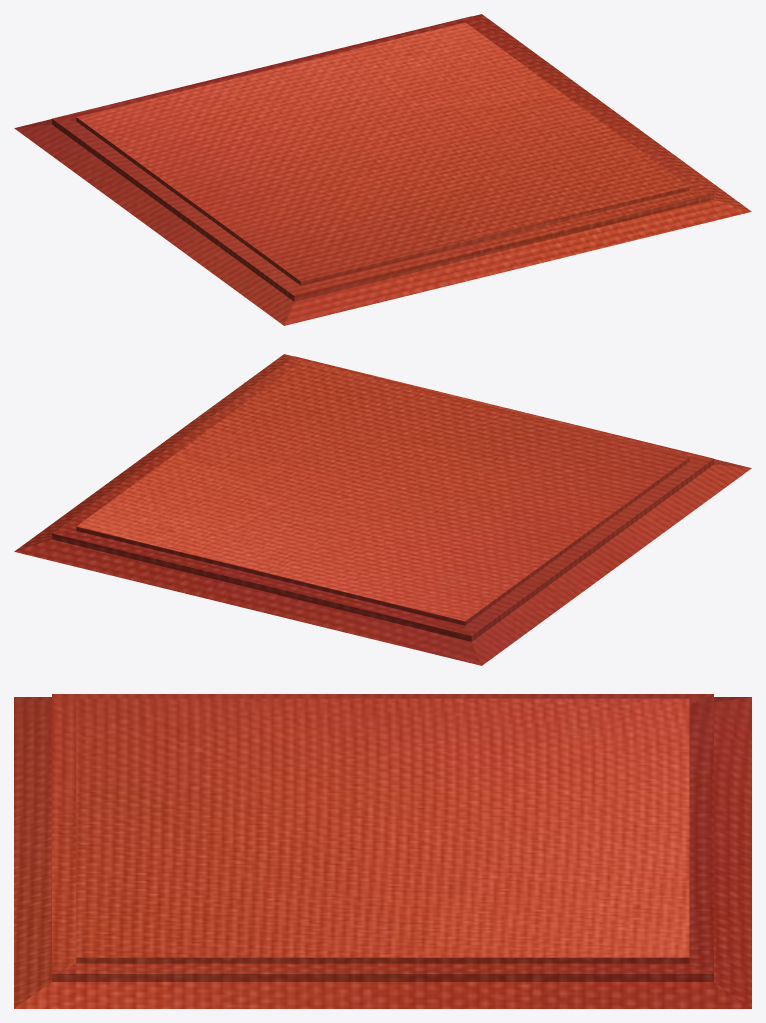
The model's file is pressureplate_oneshot.glb.
The picture shows the model from 3 angles, top to bottom: view 1: azimuth 30°, elevation 25°; view 2: azimuth 150°, elevation 25°; view 3: azimuth 270°, elevation 25°; orthographic projection. The views are drawn at different scales.
Visible parts, largest first — view 1: pressureplate_oneshot; view 2: pressureplate_oneshot; view 3: pressureplate_oneshot.
Boxes of the visible parts, bbox=[...] form: pressureplate_oneshot: bbox=[14, 14, 751, 325]; pressureplate_oneshot: bbox=[14, 354, 751, 665]; pressureplate_oneshot: bbox=[14, 694, 751, 1008].
Size of the model in its own units: 1.89 by 0.0699 by 1.89.
Materials: 1 (1 with a texture image).
